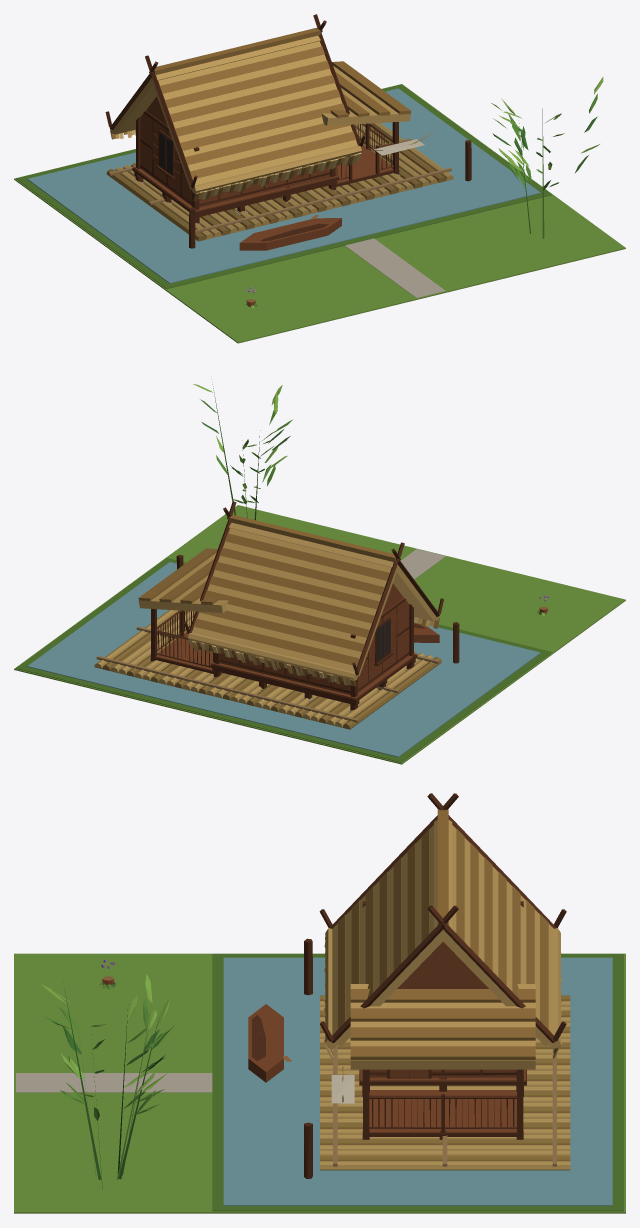
Rendered from home_2.glb.
The picture shows the model from 3 angles, top to bottom: view 1: azimuth 30°, elevation 25°; view 2: azimuth 150°, elevation 25°; view 3: azimuth 270°, elevation 25°; orthographic projection. The views are drawn at different scales.
Visible parts, largest first — view 1: body; view 2: body; view 3: body.
Boxes of the visible parts, <box> form: body: <box>14,14,625,343</box>; body: <box>14,382,625,764</box>; body: <box>14,793,625,1213</box>.
Size of the model in its own units: 16.37 by 6.42 by 15.9.
